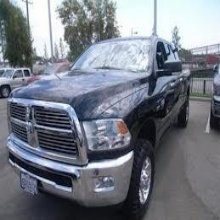no damage: (6, 36, 191, 220), (1, 66, 38, 100), (209, 60, 220, 130)
